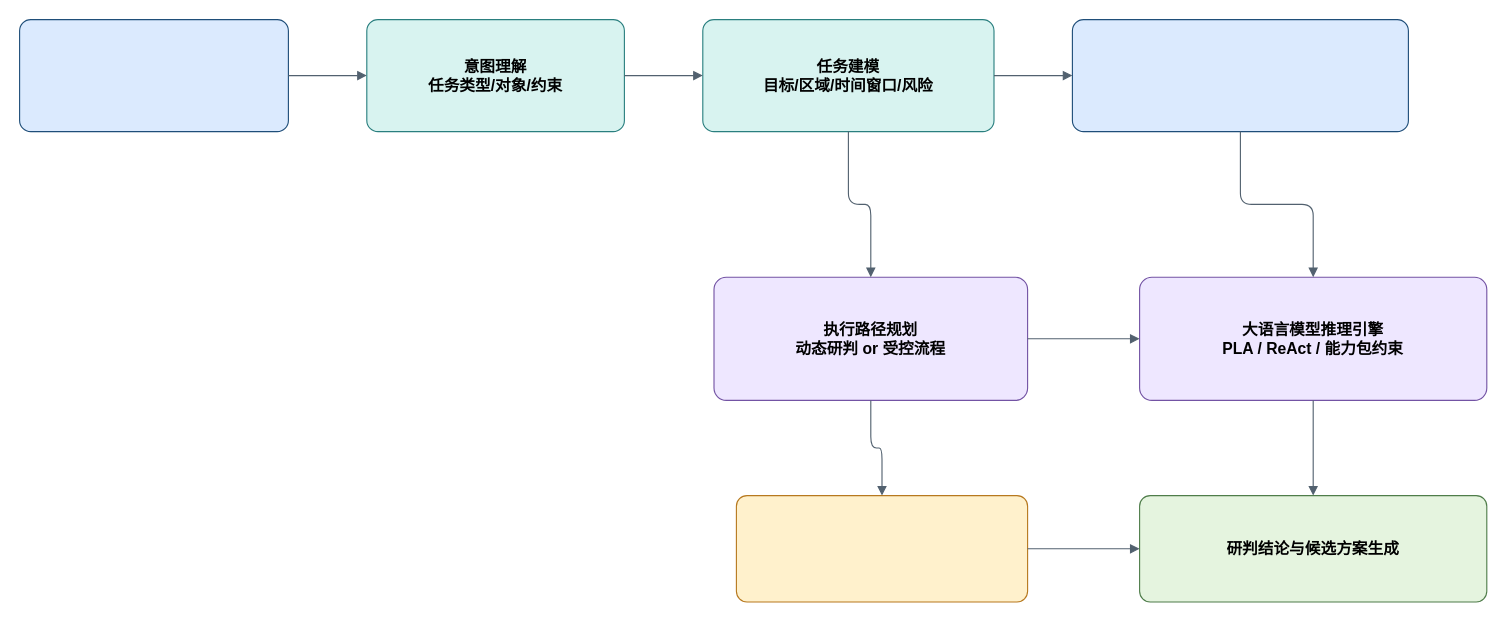
This 1506x622 diagram has some shape labels left out. The centre of each missing label's shape, as x and y in pixels:
上下文组织与证据链 事实/模型判断/历史经验: (x=1239, y=75)
工具/工作流触发建议: (x=881, y=548)
显控请求与感知事件: (x=153, y=75)
